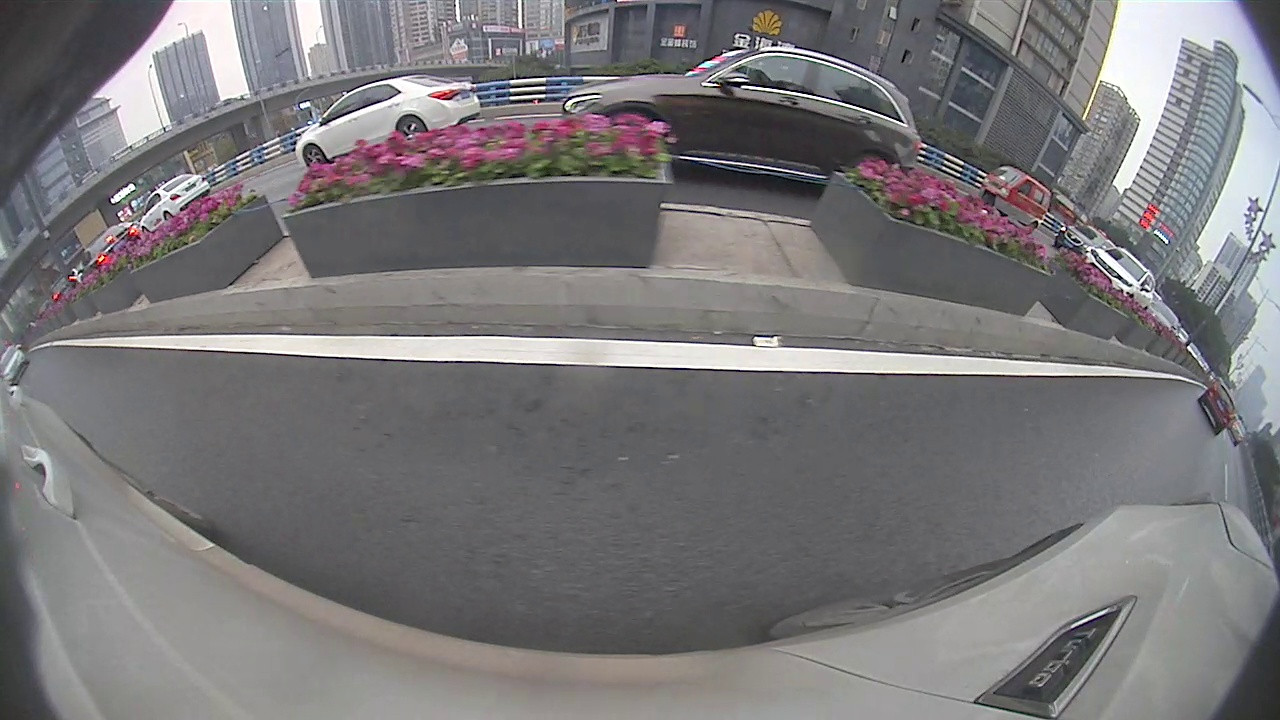car: (293, 75, 482, 162), (1197, 379, 1238, 436)
front: (301, 144, 327, 165)
rear: (396, 113, 430, 136)
